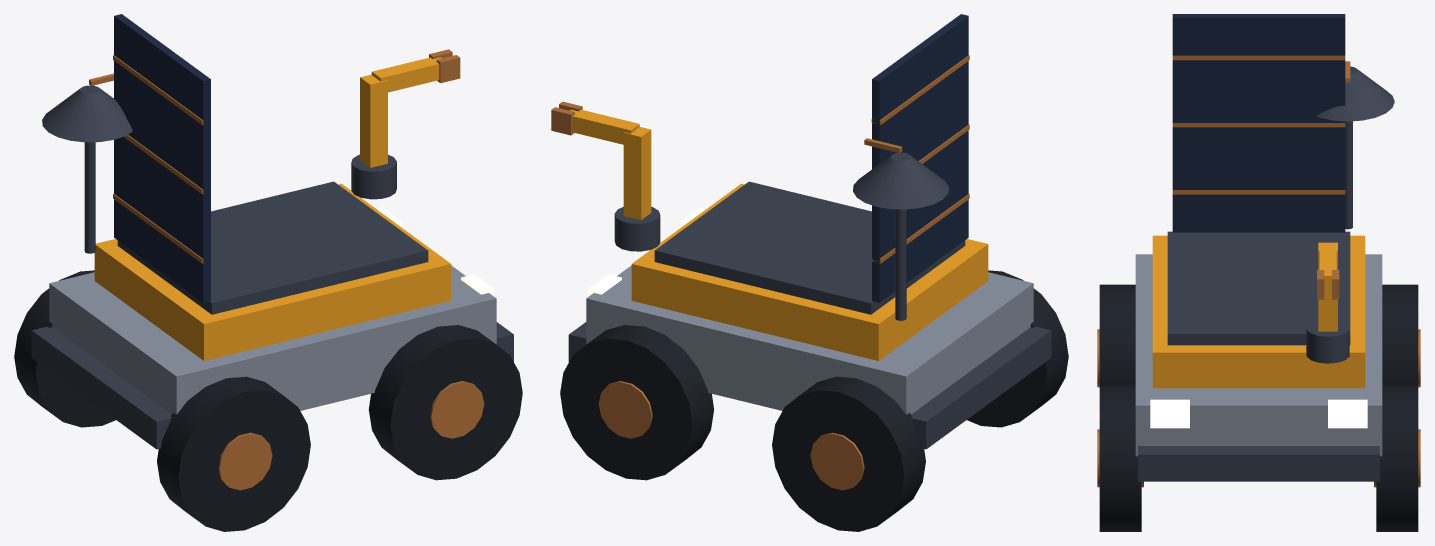
File: rover.glb
3 views of the same model, side by side, from view 1: azimuth 30°, elevation 25°; view 2: azimuth 150°, elevation 25°; view 3: azimuth 270°, elevation 25° (orthographic). The views are drawn at different scales.
Parts seen in each view (by area): view 1: chasis, panel_solar, bandeja, blindaje, rueda_tras_izq, rueda_del_izq, parachoques_tras, rueda_tras_der, antena_plato, brazo_art1, buje_tras_izq, buje_del_izq (+3 smaller); view 2: chasis, bandeja, blindaje, panel_solar, rueda_tras_der, rueda_del_der, parachoques_tras, rueda_tras_izq, antena_plato, brazo_art1, buje_del_der, buje_tras_der (+3 smaller); view 3: panel_solar, bandeja, chasis, blindaje, parachoques_del, rueda_del_izq, rueda_del_der, rueda_tras_izq, rueda_tras_der, antena_plato, brazo_base, faro_izq (+7 smaller).
Part boxes in pixels (<box>): chasis: <box>49,265,496,414</box>; panel_solar: <box>114,14,210,302</box>; bandeja: <box>117,181,428,314</box>; blindaje: <box>94,183,451,360</box>; rueda_tras_izq: <box>157,376,310,531</box>; rueda_del_izq: <box>368,325,522,480</box>; parachoques_tras: <box>31,326,171,449</box>; rueda_tras_der: <box>14,270,115,427</box>; antena_plato: <box>42,85,132,142</box>; brazo_art1: <box>360,74,387,167</box>; buje_tras_izq: <box>218,432,272,490</box>; buje_del_izq: <box>430,381,484,438</box>; chasis: <box>586,265,1033,414</box>; bandeja: <box>654,181,965,314</box>; blindaje: <box>631,183,988,360</box>; panel_solar: <box>872,14,968,302</box>; rueda_tras_der: <box>772,376,925,531</box>; rueda_del_der: <box>560,325,713,480</box>; parachoques_tras: <box>911,326,1051,449</box>; rueda_tras_izq: <box>967,270,1068,427</box>; antena_plato: <box>853,152,948,209</box>; brazo_art1: <box>623,127,651,219</box>; buje_del_der: <box>598,381,652,438</box>; buje_tras_der: <box>810,432,864,490</box>; panel_solar: <box>1172,14,1345,232</box>; bandeja: <box>1167,231,1350,345</box>; chasis: <box>1135,254,1382,456</box>; blindaje: <box>1152,235,1365,388</box>; parachoques_del: <box>1138,446,1379,481</box>; rueda_del_izq: <box>1099,385,1141,531</box>; rueda_del_der: <box>1376,385,1418,531</box>; rueda_tras_izq: <box>1099,284,1135,384</box>; rueda_tras_der: <box>1382,284,1418,384</box>; antena_plato: <box>1316,66,1394,121</box>; brazo_base: <box>1306,319,1349,363</box>; faro_izq: <box>1150,399,1189,428</box>.
Bounding box in the file's own units: 1.8 × 1.83 × 1.31.
